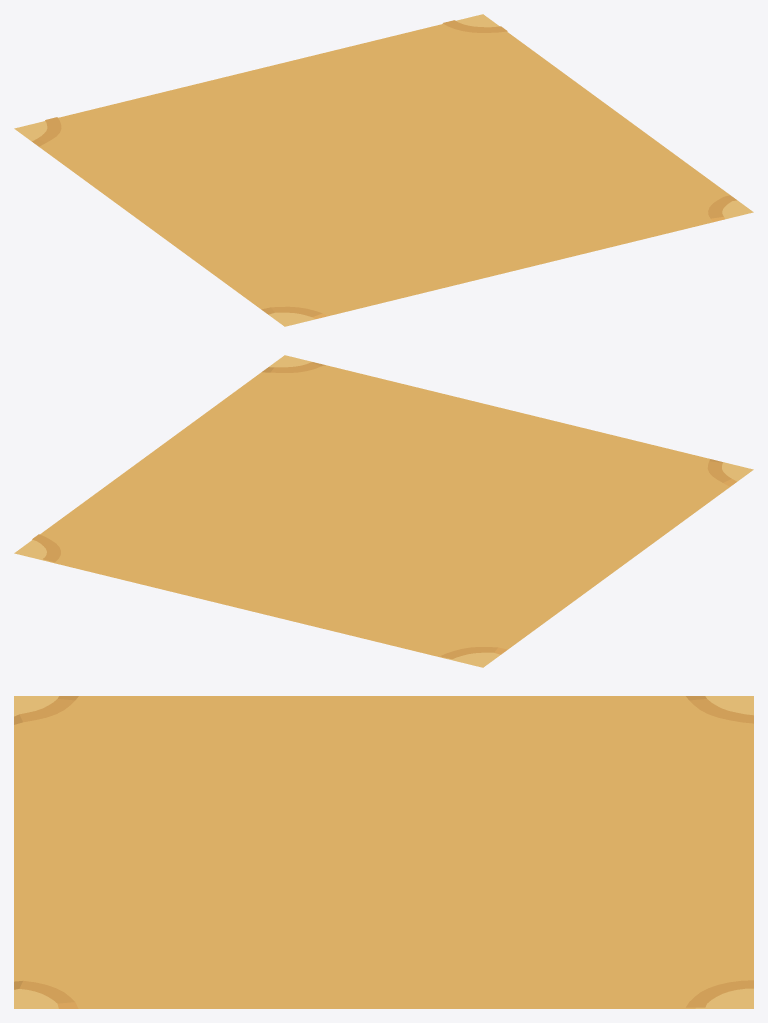
The model's file is FloorX.fbx.
The picture shows the model from 3 angles, top to bottom: view 1: azimuth 30°, elevation 25°; view 2: azimuth 150°, elevation 25°; view 3: azimuth 270°, elevation 25°; orthographic projection. The views are drawn at different scales.
Parts seen in each view (by area): view 1: Plane.006; view 2: Plane.006; view 3: Plane.006.
Part boxes in pixels (x1=…): Plane.006: x1=14, y1=14, x2=753, y2=326; Plane.006: x1=14, y1=355, x2=753, y2=667; Plane.006: x1=14, y1=696, x2=753, y2=1008.
Size of the model in its own units: 200 by 0.4021 by 200.
